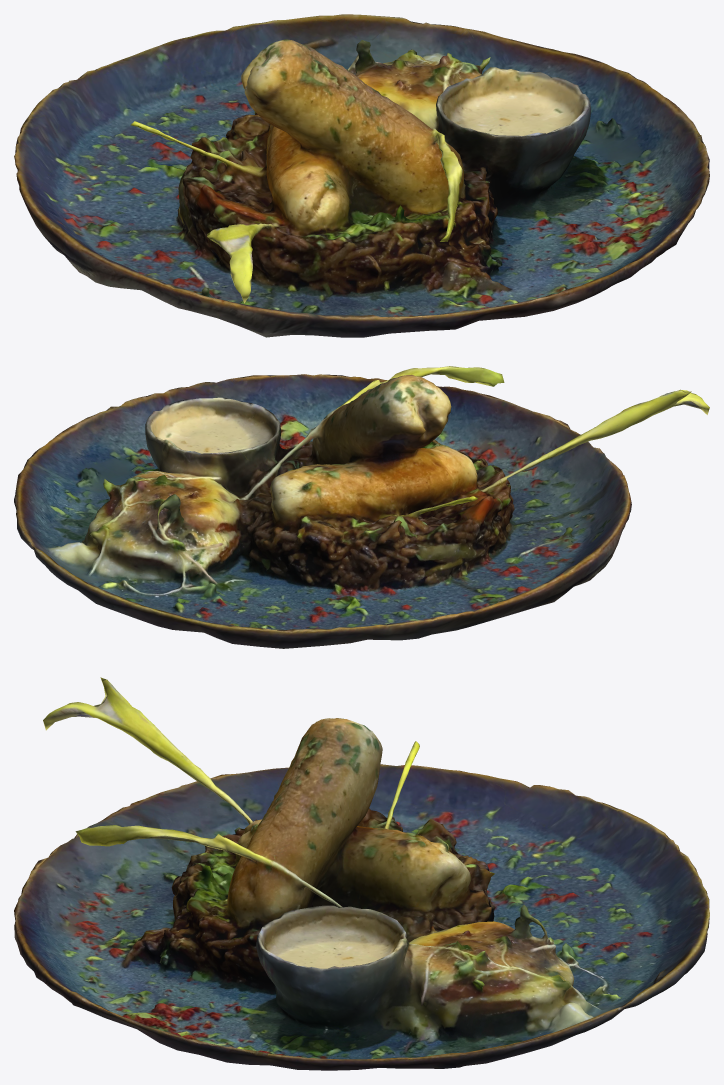
File: paupiettes-de-poulet.glb
The picture shows the model from 3 angles, top to bottom: view 1: azimuth 30°, elevation 25°; view 2: azimuth 150°, elevation 25°; view 3: azimuth 270°, elevation 25°; orthographic projection. The views are drawn at different scales.
Visible parts, largest first — view 1: /ObjectCapture/Geometry/Mesh; view 2: /ObjectCapture/Geometry/Mesh; view 3: /ObjectCapture/Geometry/Mesh.
Part boxes in pixels (x1,y1,x2,y2): /ObjectCapture/Geometry/Mesh: [14, 14, 709, 337]; /ObjectCapture/Geometry/Mesh: [14, 366, 709, 648]; /ObjectCapture/Geometry/Mesh: [14, 677, 709, 1070].
Size of the model in its own units: 0.27 by 0.0859 by 0.2715.
Materials: 1 (1 with a texture image).
